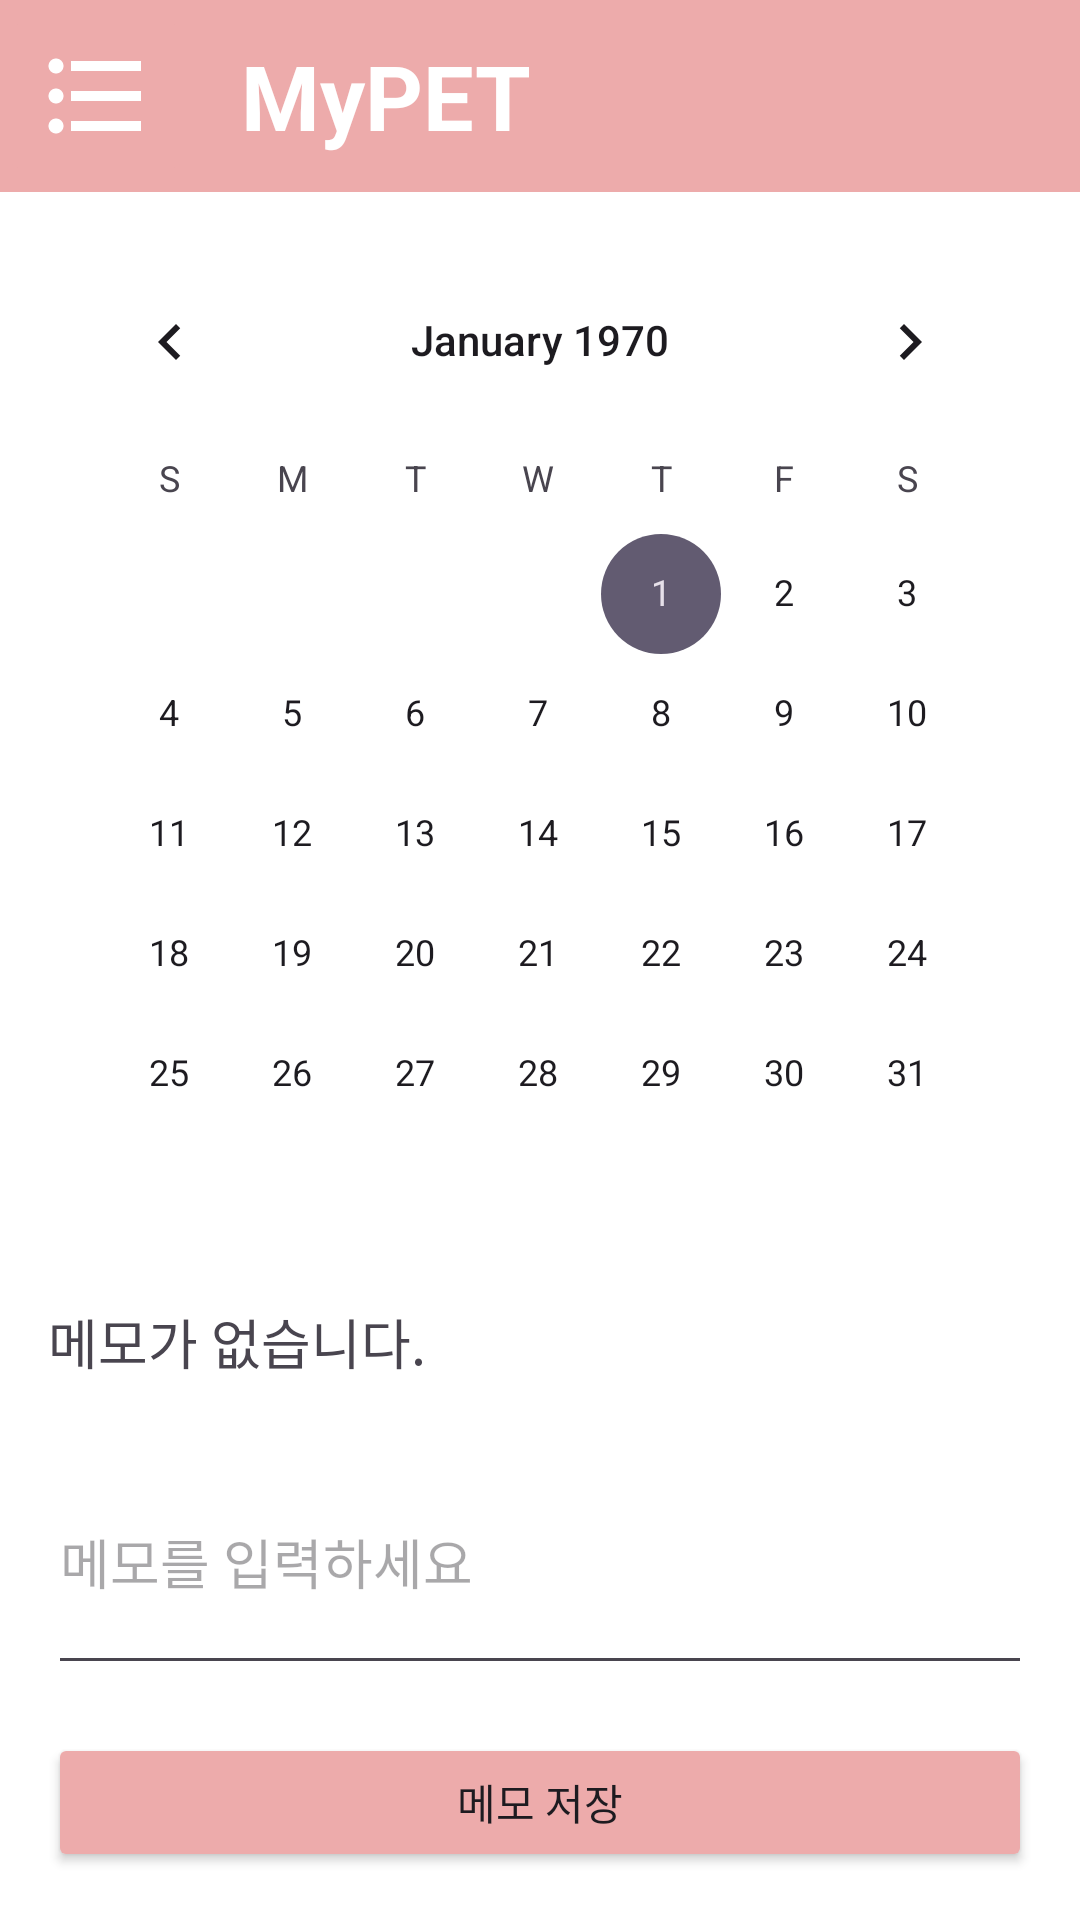

Locate icon controls on the screen. Image size 1080 × 1920, boxes as (x1, y1, x2, y2).
Toggle Drawer: (48, 58, 141, 134)
